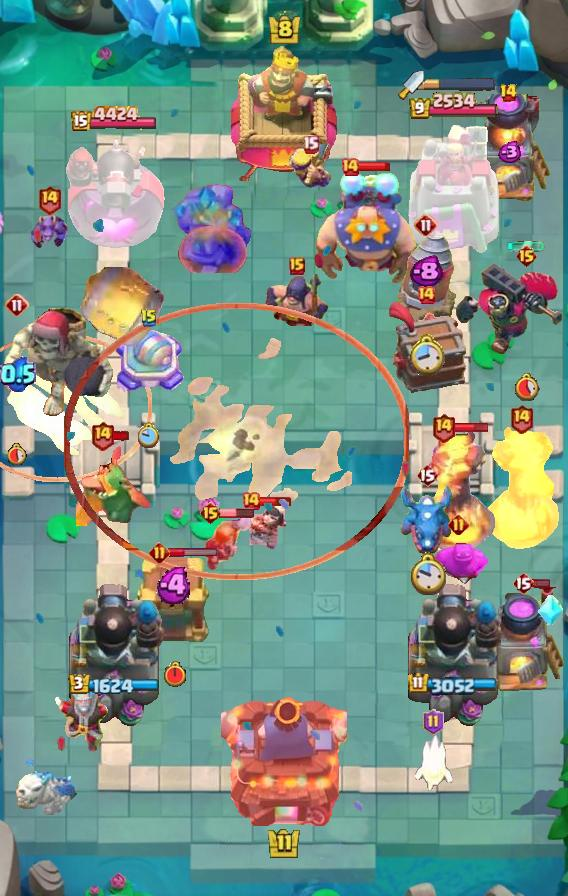arrows: (288, 144, 333, 189)
bar: (406, 122, 500, 256)
bat: (413, 734, 453, 792)
bomb: (136, 557, 214, 645)
cannoneer-tower: (165, 183, 255, 273)
dart-goblin: (385, 301, 467, 395)
dirt: (77, 259, 167, 351)
electro-dragon: (482, 424, 560, 552), (419, 428, 497, 556)
electro-giant: (0, 305, 116, 419)
electro-spirit: (156, 567, 195, 605), (0, 356, 36, 392), (409, 255, 443, 289), (494, 141, 521, 163)
electro-wizard: (76, 440, 160, 526)
elixir: (407, 332, 445, 376), (409, 552, 446, 596), (512, 372, 539, 401), (163, 660, 187, 687), (138, 422, 160, 448), (8, 443, 28, 465)
emote: (168, 546, 219, 557), (219, 507, 255, 519), (454, 423, 490, 434), (357, 161, 391, 172), (258, 497, 292, 508), (113, 430, 132, 442), (532, 578, 551, 588)
graveyard: (398, 480, 456, 556)
hog-rider: (200, 512, 254, 572)
hunter: (478, 587, 568, 695), (464, 94, 552, 204)
ice-spirit: (506, 240, 546, 252)
ice-wizard: (0, 333, 152, 483)
inferno-tower: (454, 261, 568, 357)
king-tower: (221, 690, 347, 826), (231, 45, 337, 181)
king-tower-bar: (424, 77, 496, 91)
little-prince: (311, 170, 421, 286)
magic-archer: (393, 230, 459, 328)
mini-pekka: (14, 757, 80, 821)
monk: (264, 272, 330, 330)
mortar: (40, 682, 126, 754)
pad_2: (537, 595, 563, 627)
royal-delivery: (29, 212, 69, 250)
royal-ghost: (64, 304, 408, 581)
royal-recruit: (112, 317, 189, 399)
selected: (409, 92, 500, 121), (70, 106, 158, 135), (68, 672, 160, 696), (408, 672, 498, 696)
skeleton-dragon: (237, 499, 289, 551)
text: (37, 184, 62, 215), (509, 403, 534, 434), (431, 413, 456, 444), (89, 420, 114, 451), (414, 213, 438, 237), (5, 293, 29, 317), (514, 244, 537, 268), (198, 501, 221, 525), (424, 709, 445, 735), (416, 463, 438, 487), (512, 571, 534, 595), (447, 513, 469, 534), (149, 541, 170, 562), (340, 157, 360, 177), (416, 285, 436, 305), (241, 491, 261, 511), (498, 83, 517, 103), (140, 308, 158, 328), (302, 134, 319, 153), (289, 257, 305, 275)
tornado: (423, 535, 493, 593)
tower-bar: (63, 579, 165, 731), (402, 579, 504, 731), (60, 132, 167, 256)
